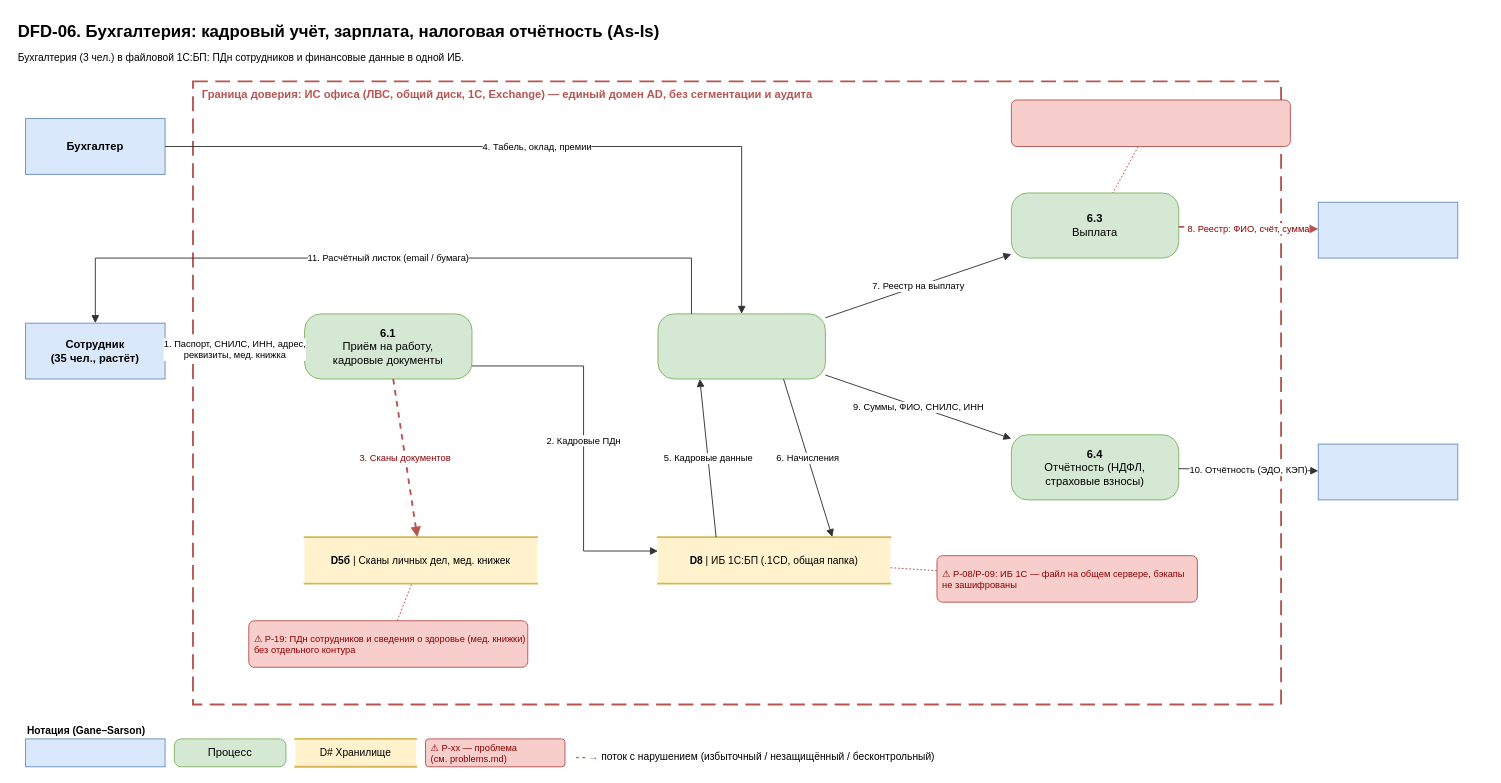
The diagram is 1501 pixels wide and 783 high, and some of its shapes have lost their labels. Here are the shapes that lost their labels. From the top down, the centre of each, then its label:
At point (1150, 122): "⚠ Реестр ЗП выгружается файлом на ПК бухгалтера перед загрузкой в клиент-банк".
At point (1387, 229): "Банк (зарплатный проект)".
At point (741, 346): "6.2 Начисление зарплаты".
At point (1387, 471): "ФНС / СФР".
At point (95, 752): "Внешняя сущность / роль".
